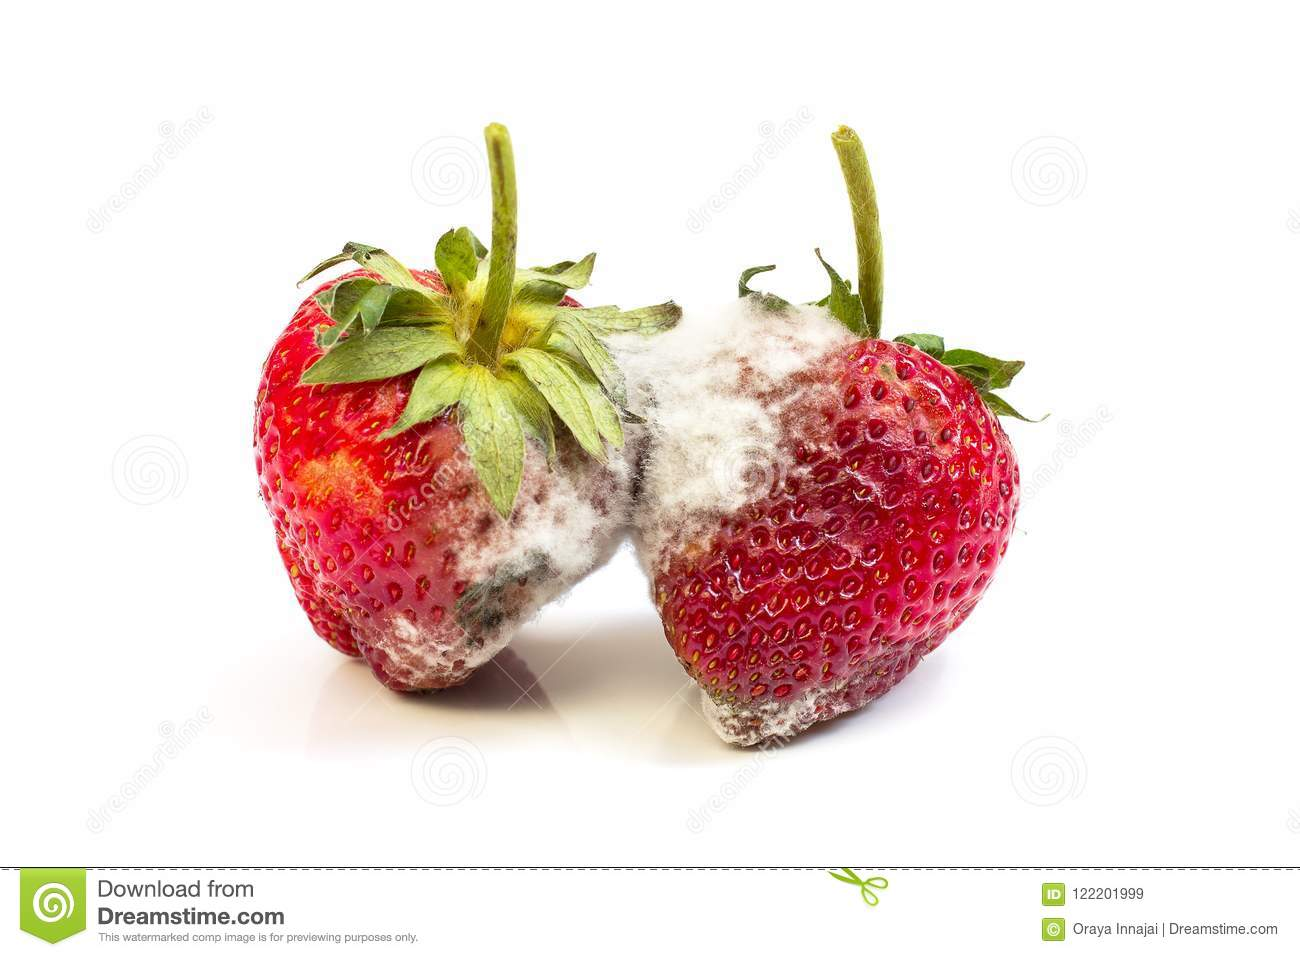damaged_strawberry: (626, 305, 1026, 737), (249, 249, 627, 705)
